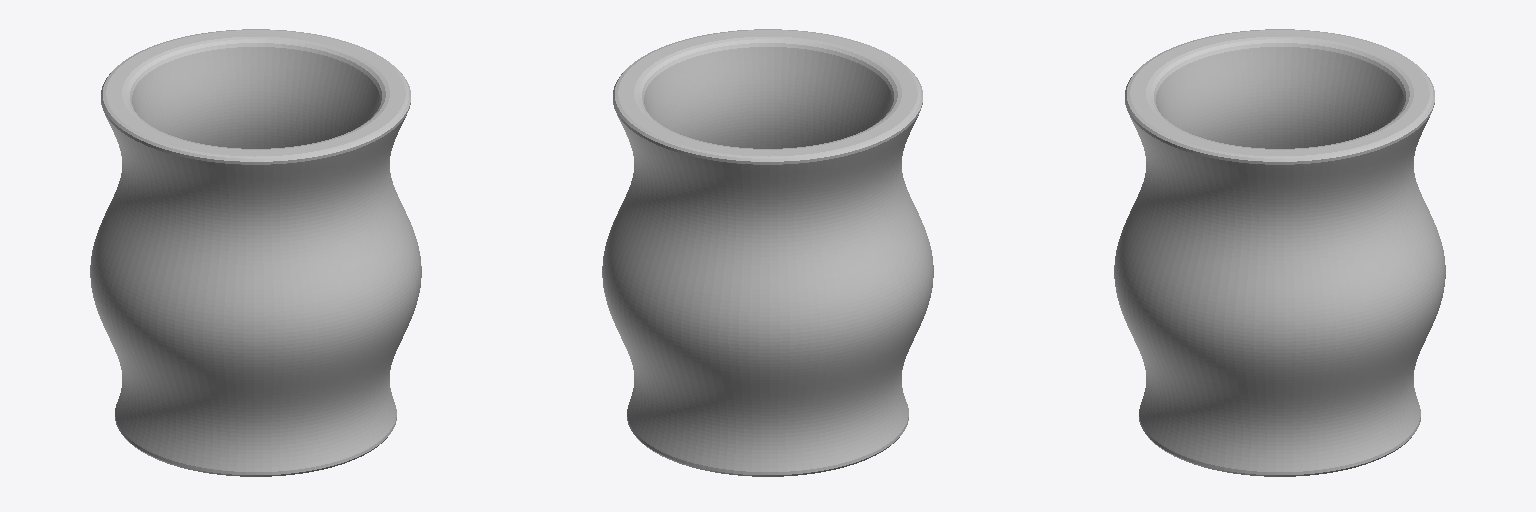
The model's file is vase1.obj.
3 renders of one model, left to right at view 1: azimuth 30°, elevation 25°; view 2: azimuth 150°, elevation 25°; view 3: azimuth 270°, elevation 25°, orthographic.
Size of the model in its own units: 1.97 by 2.14 by 1.97.